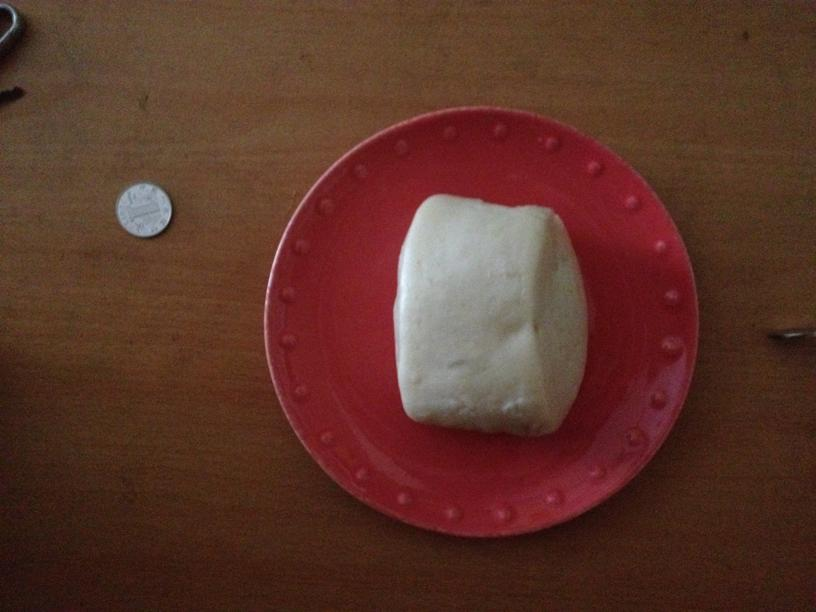bun: (393, 188, 585, 436)
coin: (116, 182, 171, 239)
